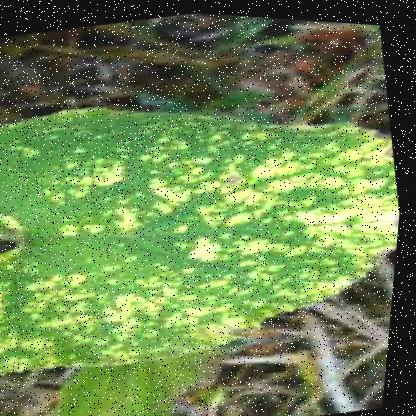DownyMildew: (134, 65, 411, 343), (0, 71, 270, 265), (0, 209, 264, 383)
